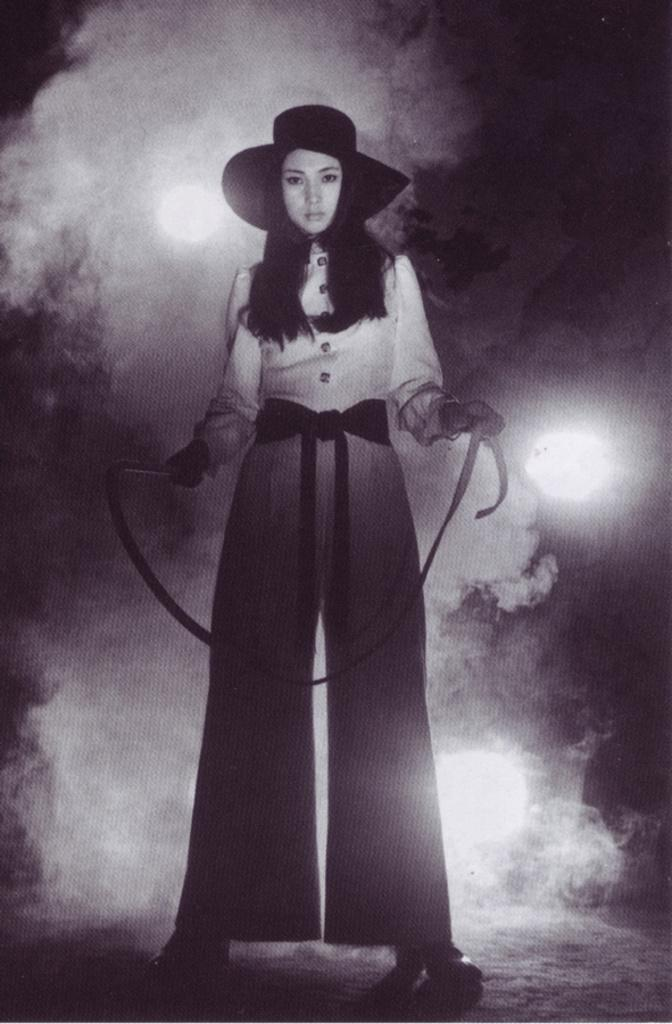Hat: (218, 106, 414, 234)
